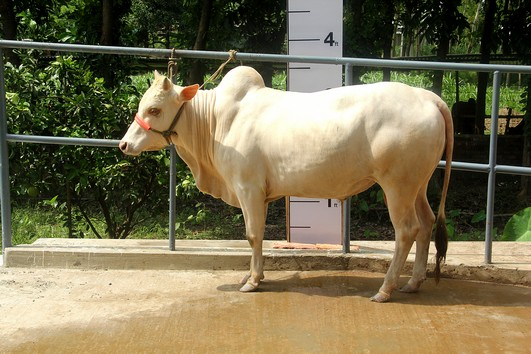cow: (115, 61, 456, 309)
